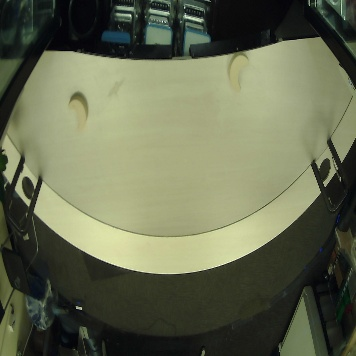puck: (68, 96, 88, 131), (228, 55, 248, 90)
